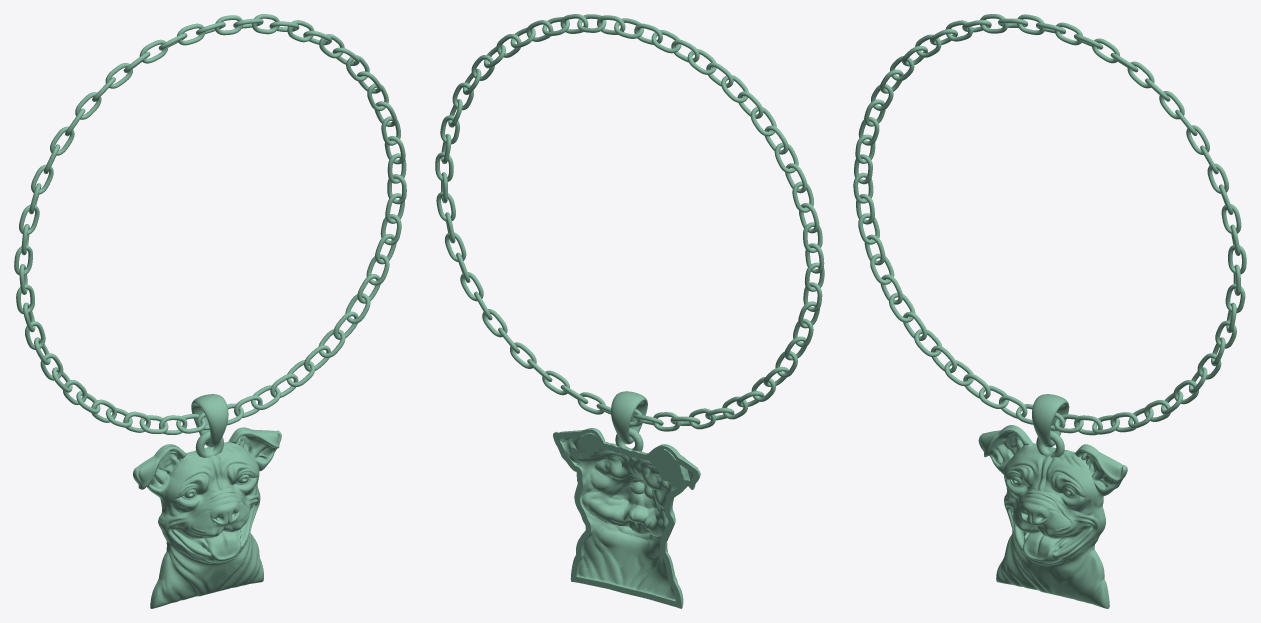
The picture shows the model from 3 angles, left to right: view 1: azimuth 30°, elevation 25°; view 2: azimuth 150°, elevation 25°; view 3: azimuth 330°, elevation 25°; orthographic projection.
Visible parts, largest first — view 1: object 1, PingenteCachorro2Render.3dm, object 2; view 2: object 1, PingenteCachorro2Render.3dm, object 2; view 3: object 1, PingenteCachorro2Render.3dm, object 2.
Boxes of the visible parts, left/top/right/bottom form: object 1: left=133, top=427, right=281, bottom=608; PingenteCachorro2Render.3dm: left=14, top=14, right=406, bottom=434; object 2: left=191, top=394, right=228, bottom=447; object 1: left=553, top=427, right=700, bottom=608; PingenteCachorro2Render.3dm: left=435, top=14, right=824, bottom=431; object 2: left=611, top=391, right=647, bottom=444; object 1: left=978, top=425, right=1127, bottom=608; PingenteCachorro2Render.3dm: left=853, top=14, right=1246, bottom=435; object 2: left=1032, top=394, right=1069, bottom=447.
Size of the model in its own units: 2.31 by 3.25 by 0.3048.
